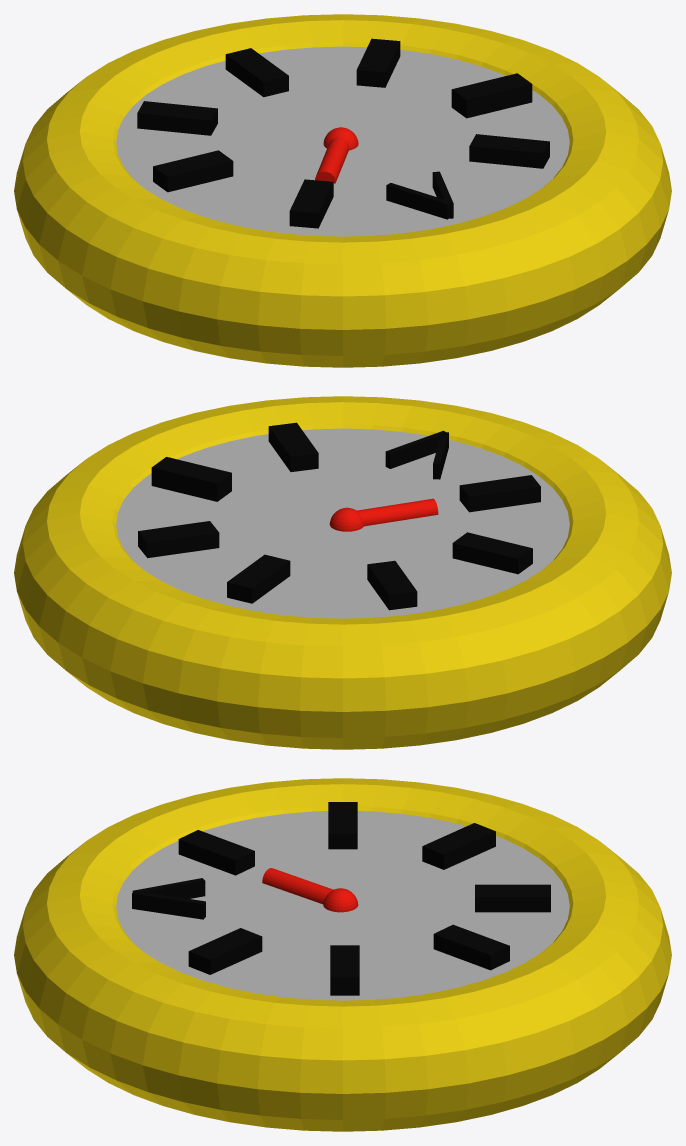
Rendered from VOLTMETER_Zero_01.fbx.
3 renders of one model, top to bottom at view 1: azimuth 30°, elevation 25°; view 2: azimuth 150°, elevation 25°; view 3: azimuth 270°, elevation 25°, orthographic.
Visible parts, largest first — view 1: 环体, 柱体, 立方体.003, 立方体.006, 立方体.007, 立方体, 立方体.005, 立方体.009, 立方体.001, 立方体.002, 柱体.001; view 2: 环体, 柱体, 立方体.003, 立方体.001, 立方体.002, 立方体, 柱体.001, 立方体.005, 立方体.006, 立方体.007, 立方体.009; view 3: 环体, 柱体, 立方体.009, 立方体.005, 立方体.002, 立方体.001, 立方体.007, 立方体.006, 柱体.001, 立方体.003, 立方体.
Boxes of the visible parts, <box> form: 环体: <box>14,14,671,367</box>; 柱体: <box>116,46,569,236</box>; 立方体.003: <box>451,73,532,118</box>; 立方体.006: <box>137,101,217,135</box>; 立方体.007: <box>469,134,549,168</box>; 立方体: <box>153,150,233,192</box>; 立方体.005: <box>225,48,288,97</box>; 立方体.009: <box>386,171,453,219</box>; 立方体.001: <box>289,179,333,228</box>; 立方体.002: <box>356,38,400,87</box>; 柱体.001: <box>315,127,358,183</box>; 环体: <box>14,396,671,749</box>; 柱体: <box>116,428,569,618</box>; 立方体.003: <box>151,457,231,501</box>; 立方体.001: <box>459,475,540,512</box>; 立方体.002: <box>138,521,219,558</box>; 立方体: <box>452,532,532,574</box>; 柱体.001: <box>329,498,438,531</box>; 立方体.005: <box>227,554,290,603</box>; 立方体.006: <box>367,560,417,610</box>; 立方体.007: <box>268,422,318,471</box>; 立方体.009: <box>385,430,448,479</box>; 环体: <box>14,778,671,1131</box>; 柱体: <box>116,811,569,1000</box>; 立方体.009: <box>132,878,205,919</box>; 立方体.005: <box>475,884,550,912</box>; 立方体.002: <box>433,924,509,970</box>; 立方体.001: <box>178,830,254,875</box>; 立方体.007: <box>188,928,262,974</box>; 立方体.006: <box>422,823,495,869</box>; 柱体.001: <box>262,868,358,912</box>; 立方体.003: <box>330,945,359,995</box>; 立方体: <box>328,802,357,849</box>.
Size of the model in its own units: 250 by 53.09 by 250.
